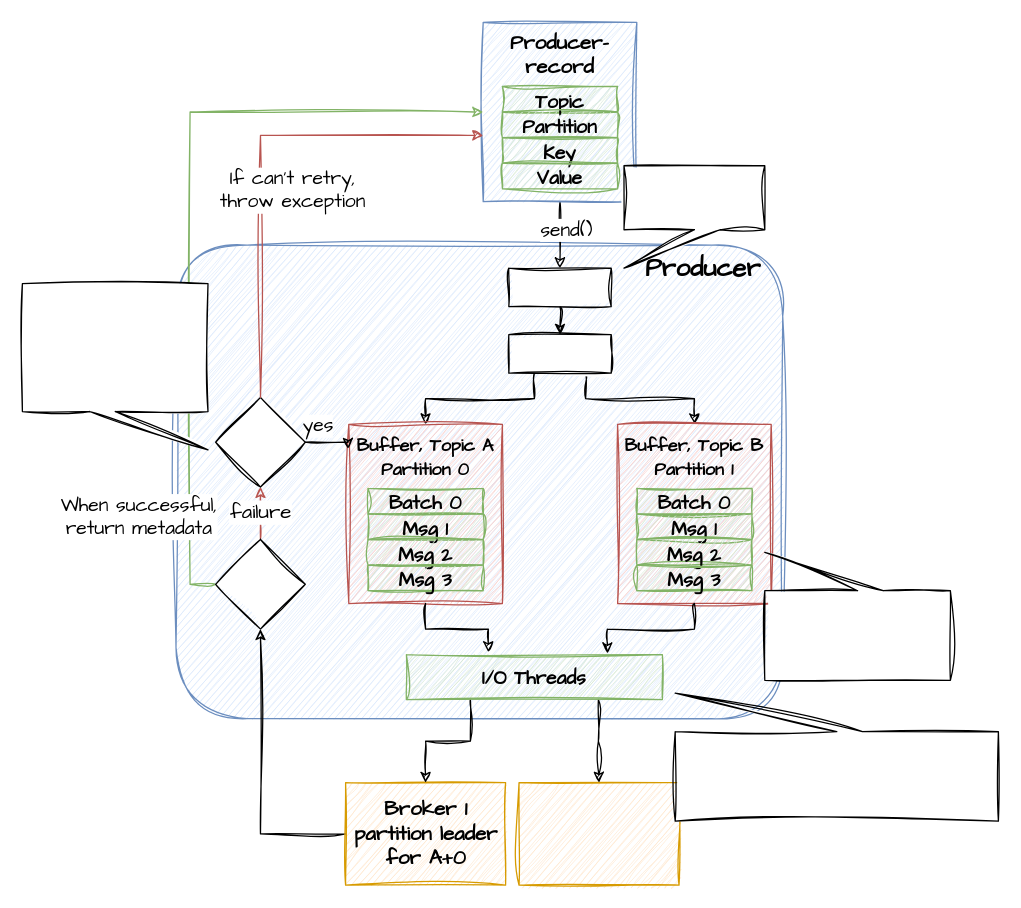
Image size: 1021x908. Some labels were removed from this diagram. The centre of each missing label's shape, as x and y in pixels:
"Ack?" belongs at (259,583).
"batch.size linger.ms compression.type" belongs at (857,615).
"Broker 2 partition leader for B+1" belongs at (598,833).
"key.serializer value.serializer" belongs at (694,216).
"max.request.size max.in.flight.requests.per.connection" belongs at (836,756).
"Partitioner" belongs at (559,353).
"retries request.timeout.ms delivery.timeout.ms retries.backoff.ms" belongs at (114,366).
"Retry?" belongs at (259,441).
"Serializer" belongs at (559,287).
